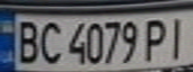0: (84, 18, 106, 65)
4: (63, 18, 87, 65)
7: (103, 18, 124, 65)
9: (118, 17, 142, 64)
B: (9, 17, 42, 65)
C: (36, 18, 63, 65)
I: (163, 14, 193, 61)
P: (139, 16, 172, 63)
